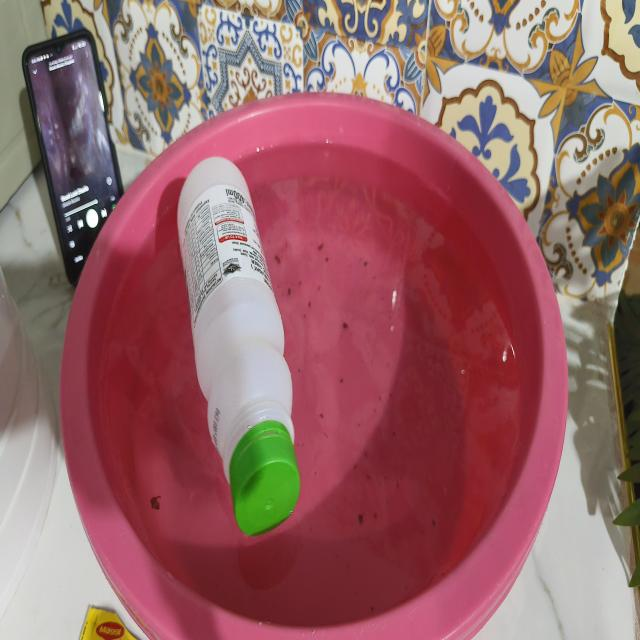Plastic Bottle: (178, 157, 300, 536)
